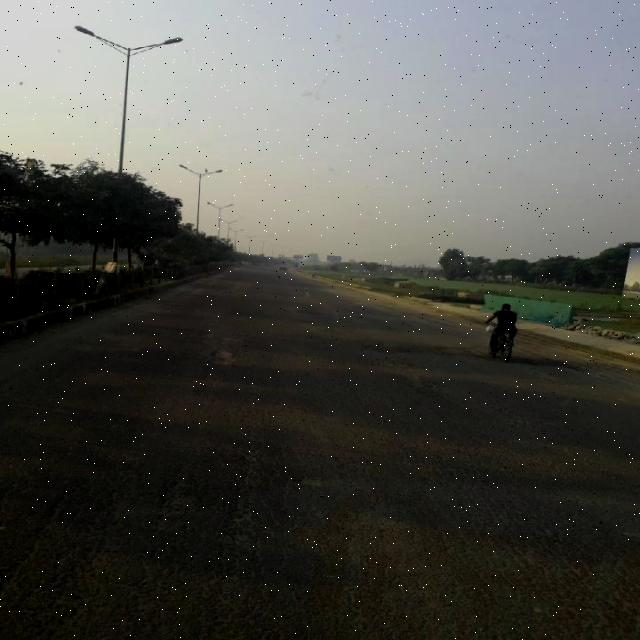D20: (16, 372, 640, 616)
D40: (202, 334, 245, 372)
